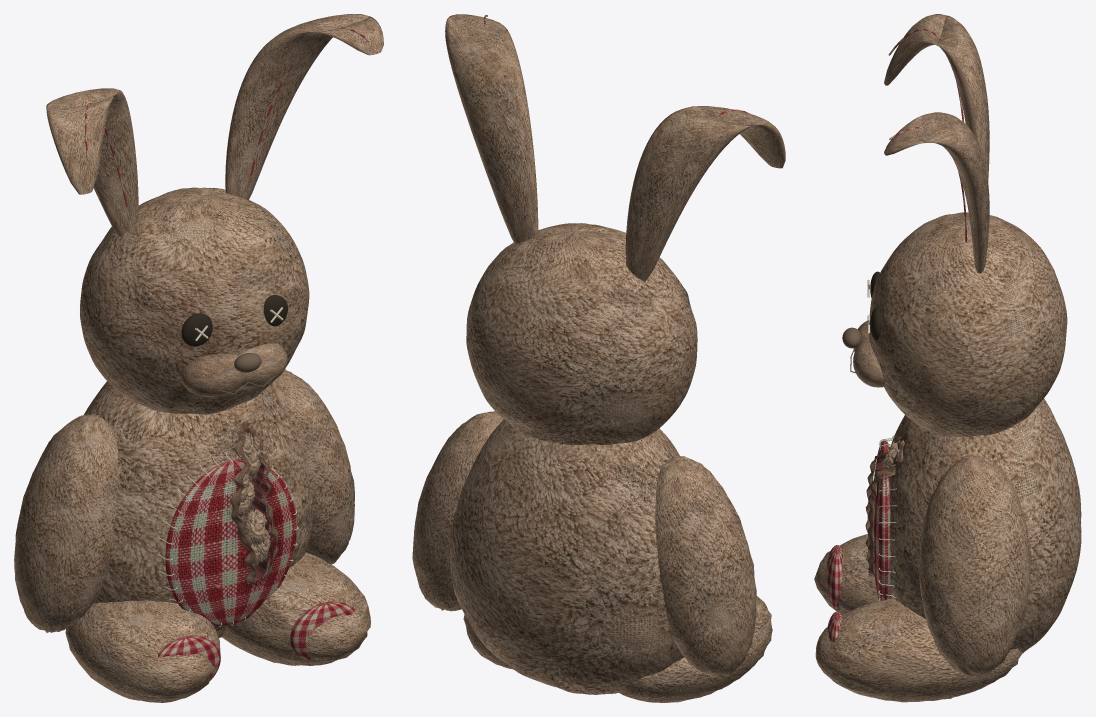
File: mascot-rabbit-v300.glb
3 views of the same model, side by side, from view 1: azimuth 30°, elevation 25°; view 2: azimuth 150°, elevation 25°; view 3: azimuth 270°, elevation 25° (orthographic). The views are drawn at different scales.
Parts seen in each view (by area): view 1: Tailored giant cloth mascot; view 2: Tailored giant cloth mascot; view 3: Tailored giant cloth mascot.
Boxes of the visible parts, x1=… form: Tailored giant cloth mascot: x1=14, y1=14, x2=383, y2=702; Tailored giant cloth mascot: x1=412, y1=14, x2=785, y2=702; Tailored giant cloth mascot: x1=814, y1=14, x2=1081, y2=702.
Size of the model in its own units: 2.88 by 5.17 by 2.11.
Materials: 9 (4 with a texture image).
